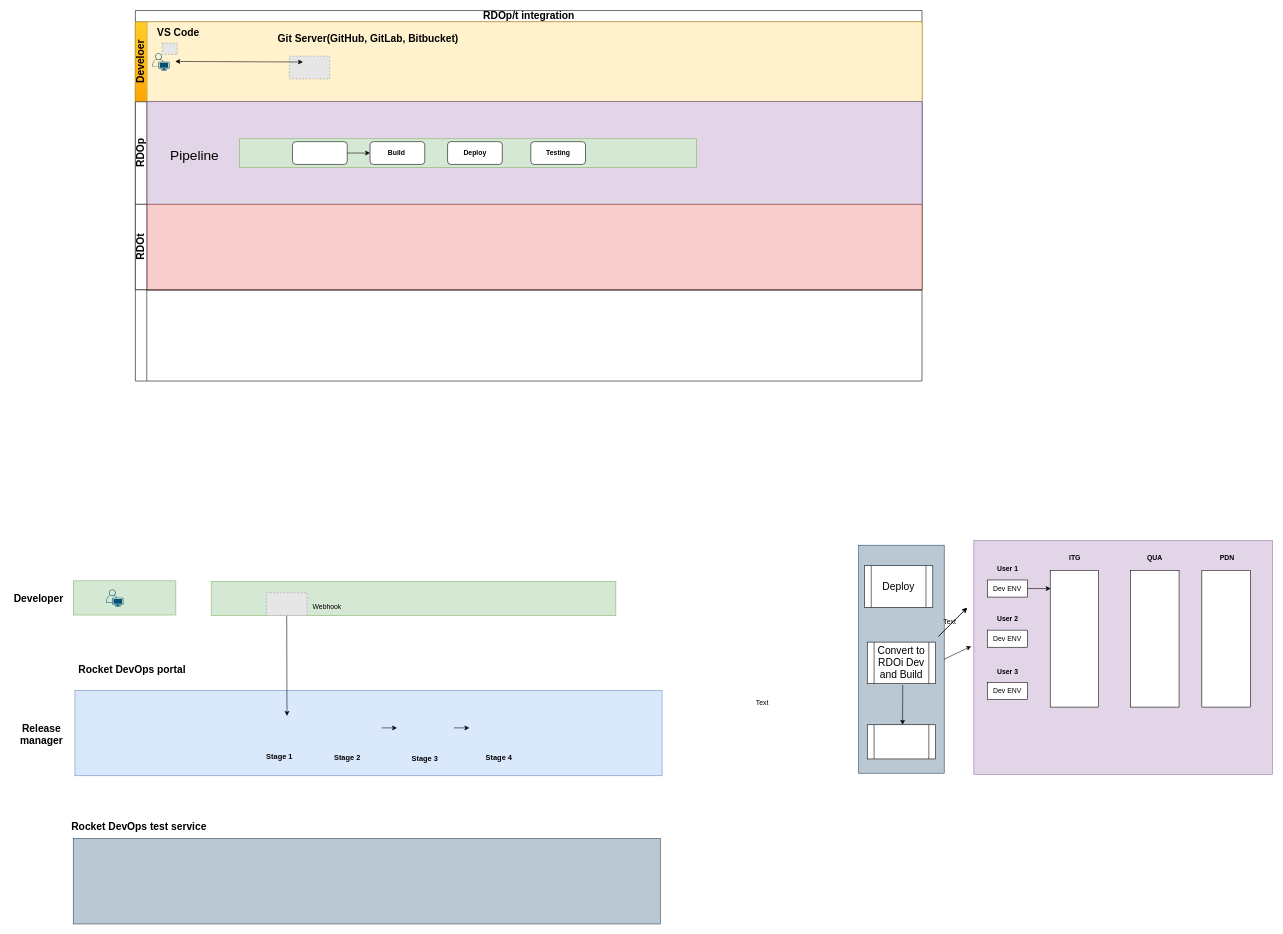
Image size: 1283x934. Some labels were removed from this diagram. Grey dashed boxes stand in for pictures. The shapes that lost their labels are listed below. From the top down, each one's centre as x and y in pixels, then its label:
pixel 319 152: SCM sync
pixel 528 335: RDOi
pixel 901 741: Git code sync
